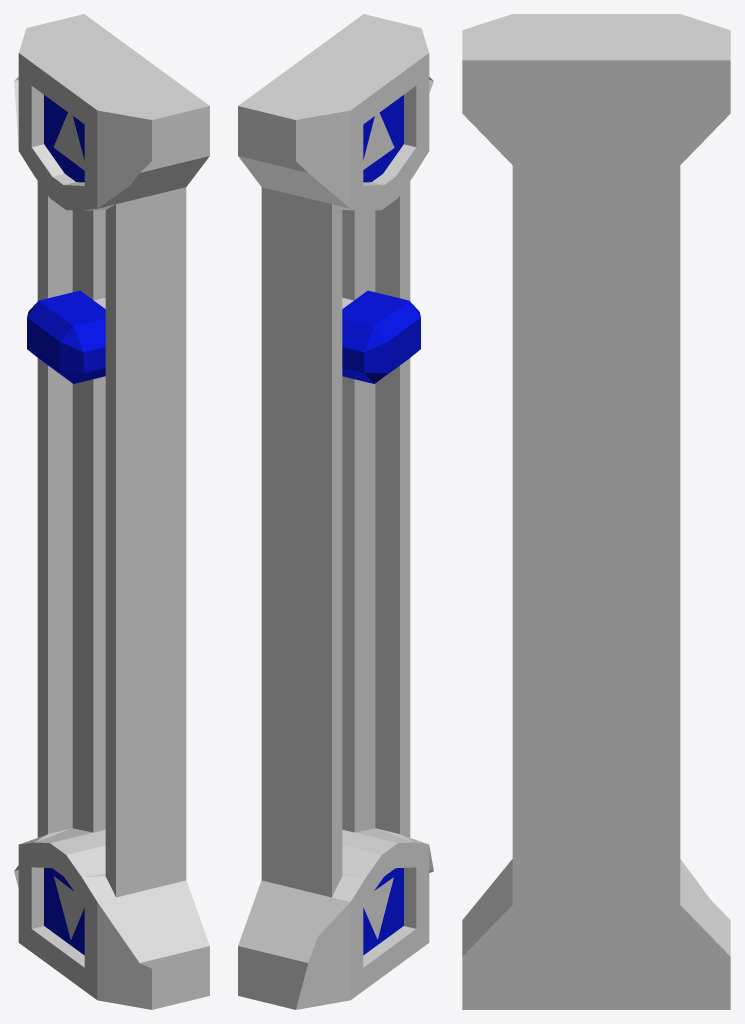
The model's file is slider.fbx.
3 renders of one model, left to right at view 1: azimuth 30°, elevation 25°; view 2: azimuth 150°, elevation 25°; view 3: azimuth 270°, elevation 25°, orthographic. The views are drawn at different scales.
Visible parts, largest first — view 1: Cube.002, Cube.003; view 2: Cube.002, Cube.003; view 3: Cube.002.
Part boxes in pixels (x1,y1,x2,y2): Cube.002: (14, 14, 209, 1009); Cube.003: (27, 290, 105, 383); Cube.002: (238, 14, 433, 1009); Cube.003: (342, 290, 420, 383); Cube.002: (462, 14, 730, 1009).
Size of the model in its own units: 55.71 by 457 by 117.
